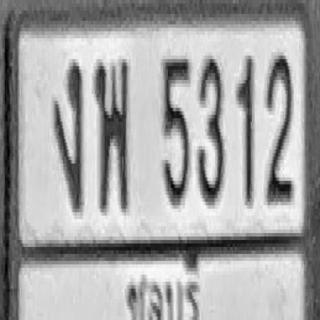A07: (53, 59, 83, 209)
A30: (94, 58, 128, 210)
N01: (237, 54, 254, 204)
N02: (265, 52, 292, 202)
N03: (197, 56, 224, 202)
N05: (162, 56, 190, 205)
P13: (122, 246, 200, 320)
